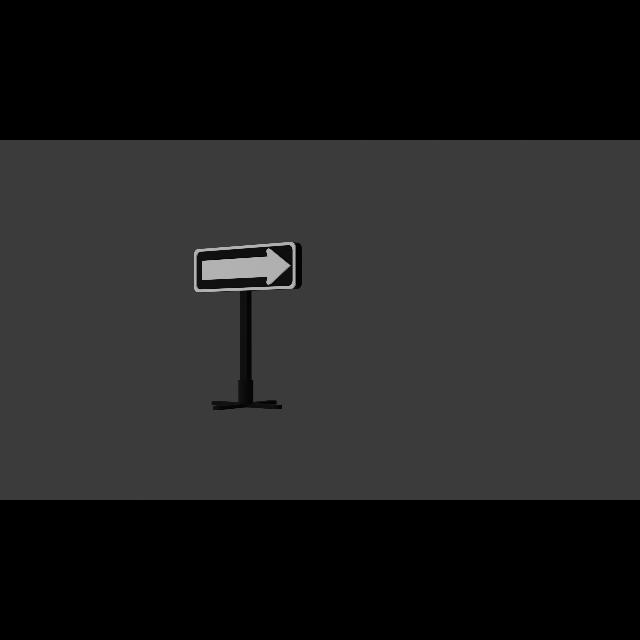sign_oneway_right: (195, 241, 303, 295)
